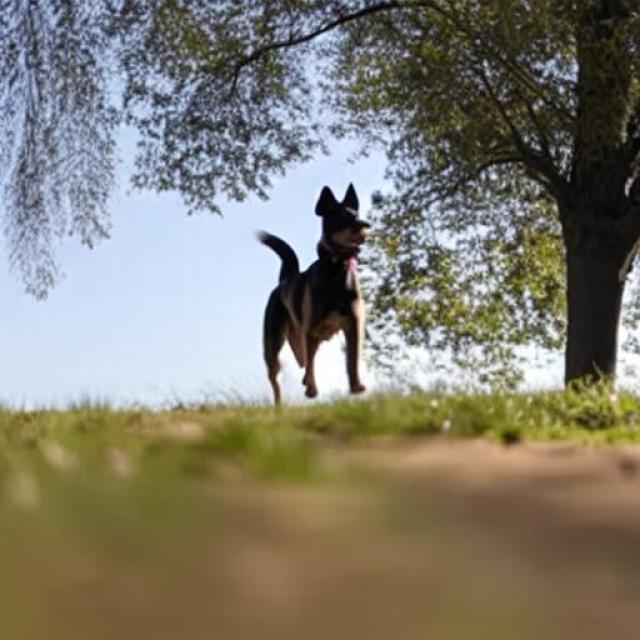Dog: (255, 183, 372, 411)
